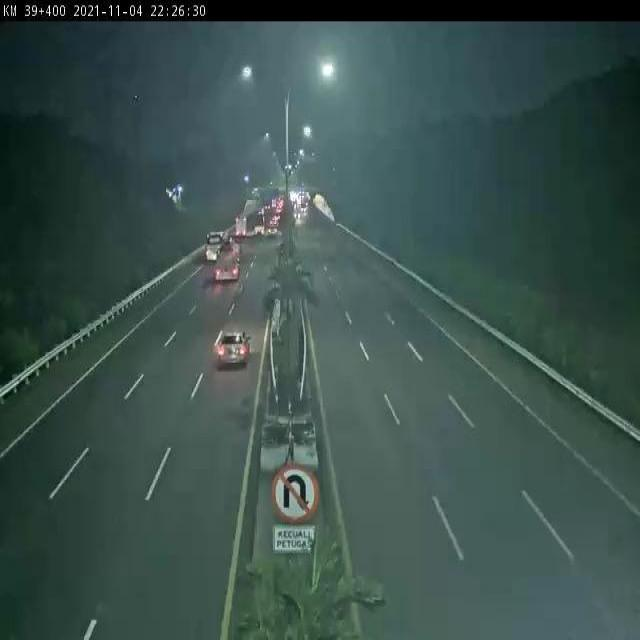bus-l-: (192, 225, 222, 264)
car: (210, 318, 258, 382)
truck-xl-: (211, 244, 249, 301)
